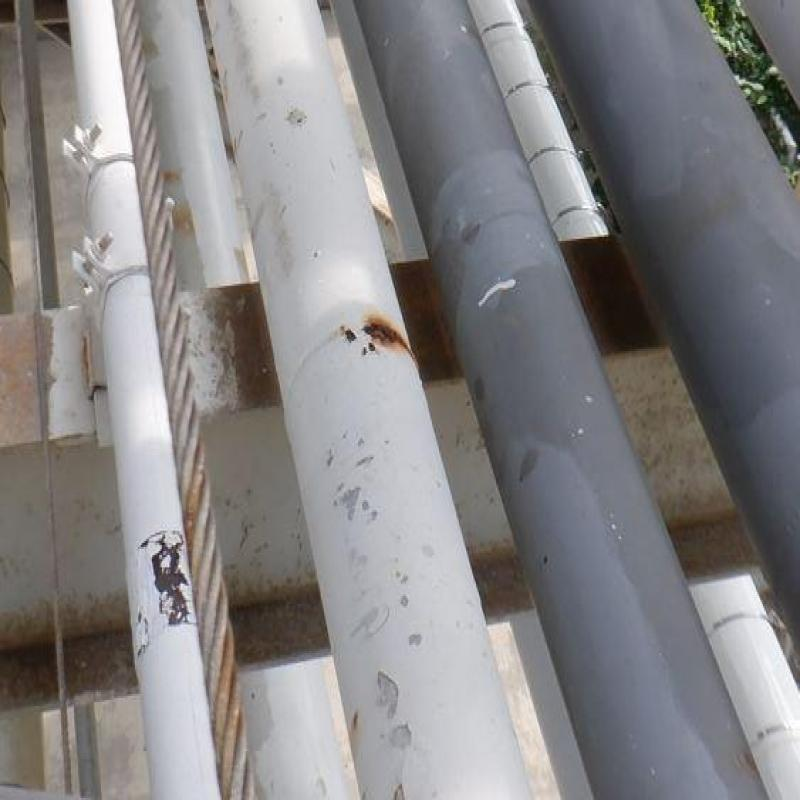corrosion: (362, 314, 418, 359)
